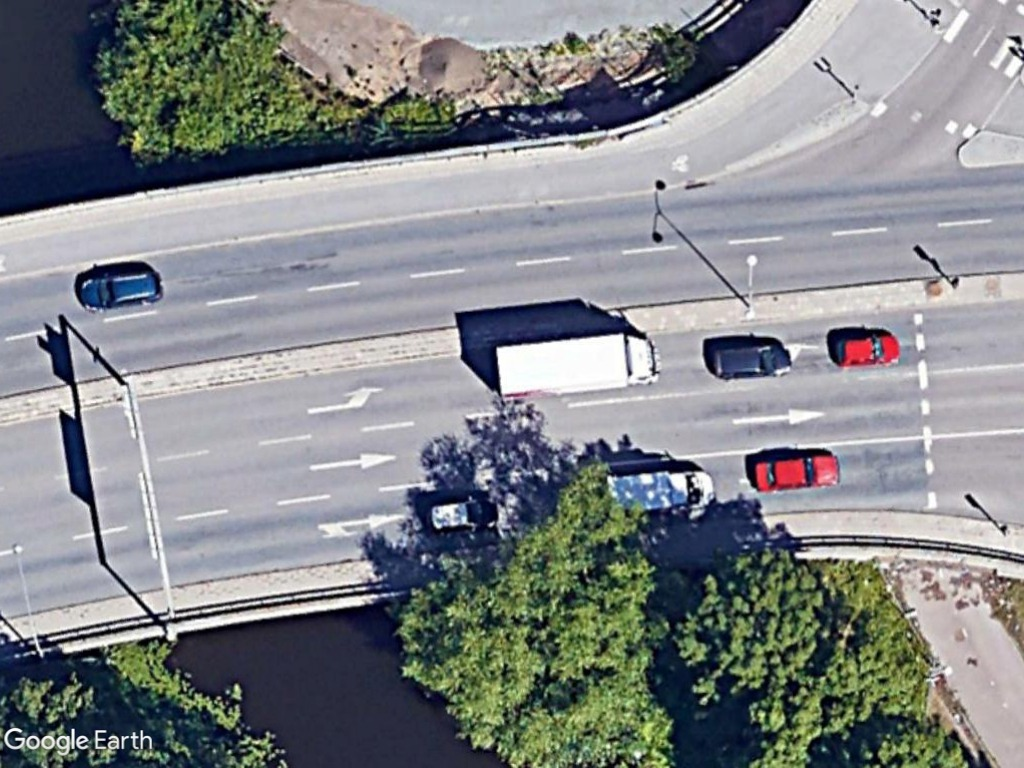car: (748, 451, 842, 496), (76, 269, 167, 313), (708, 343, 798, 384), (830, 330, 904, 371)
truck: (491, 326, 667, 401)
